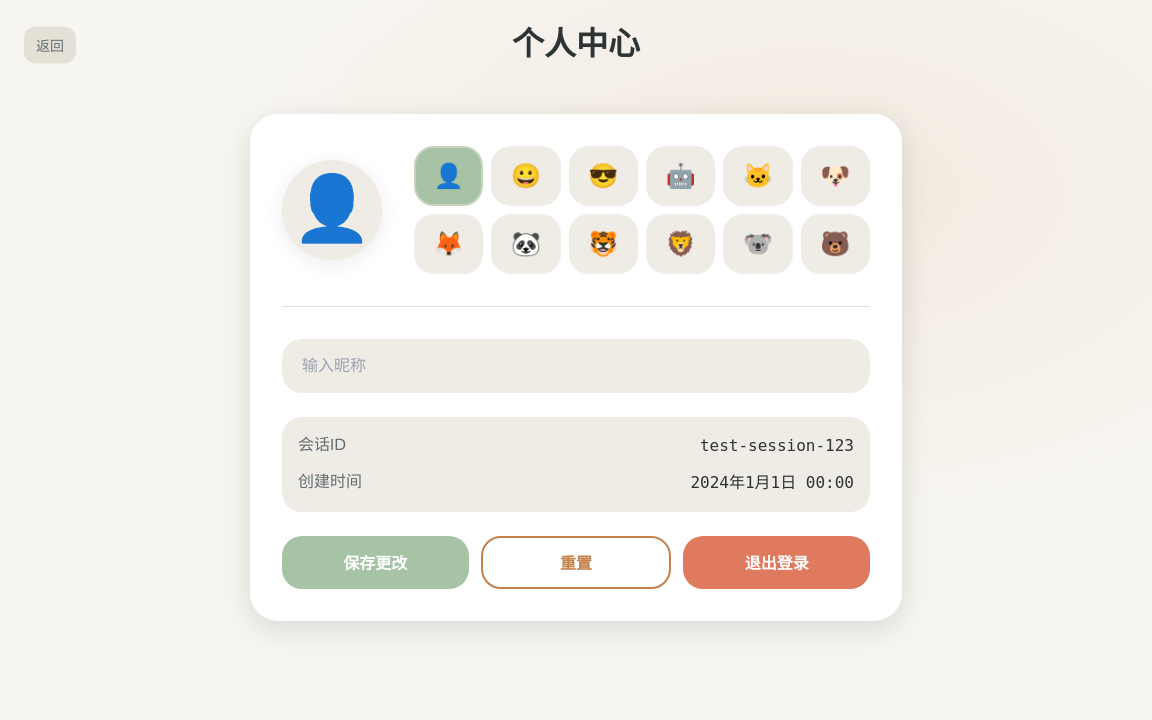
Scenario: ProfileView › 头像选择测试 › 点击头像选项应该选中该头像
Click the button with class "avatar-option" showing "😀" at (526,176), box [491,146,561,206]
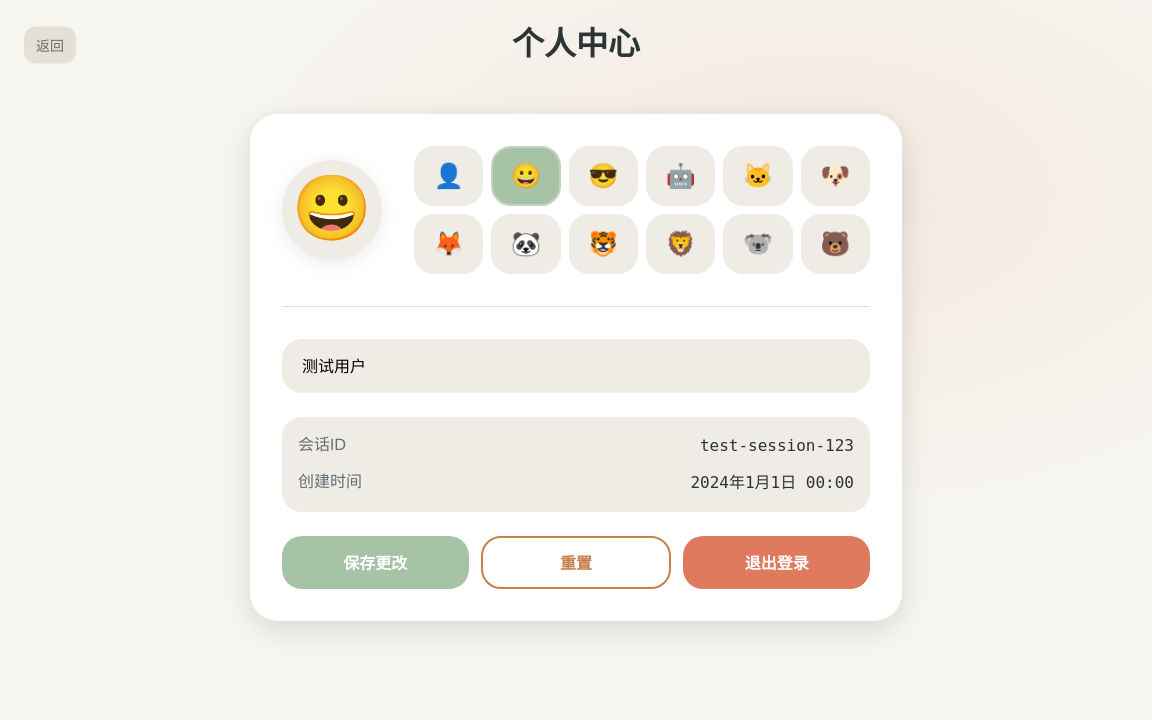
Result: the text with class "avatar-emoji" reads "😀" at [292,165,372,253]
